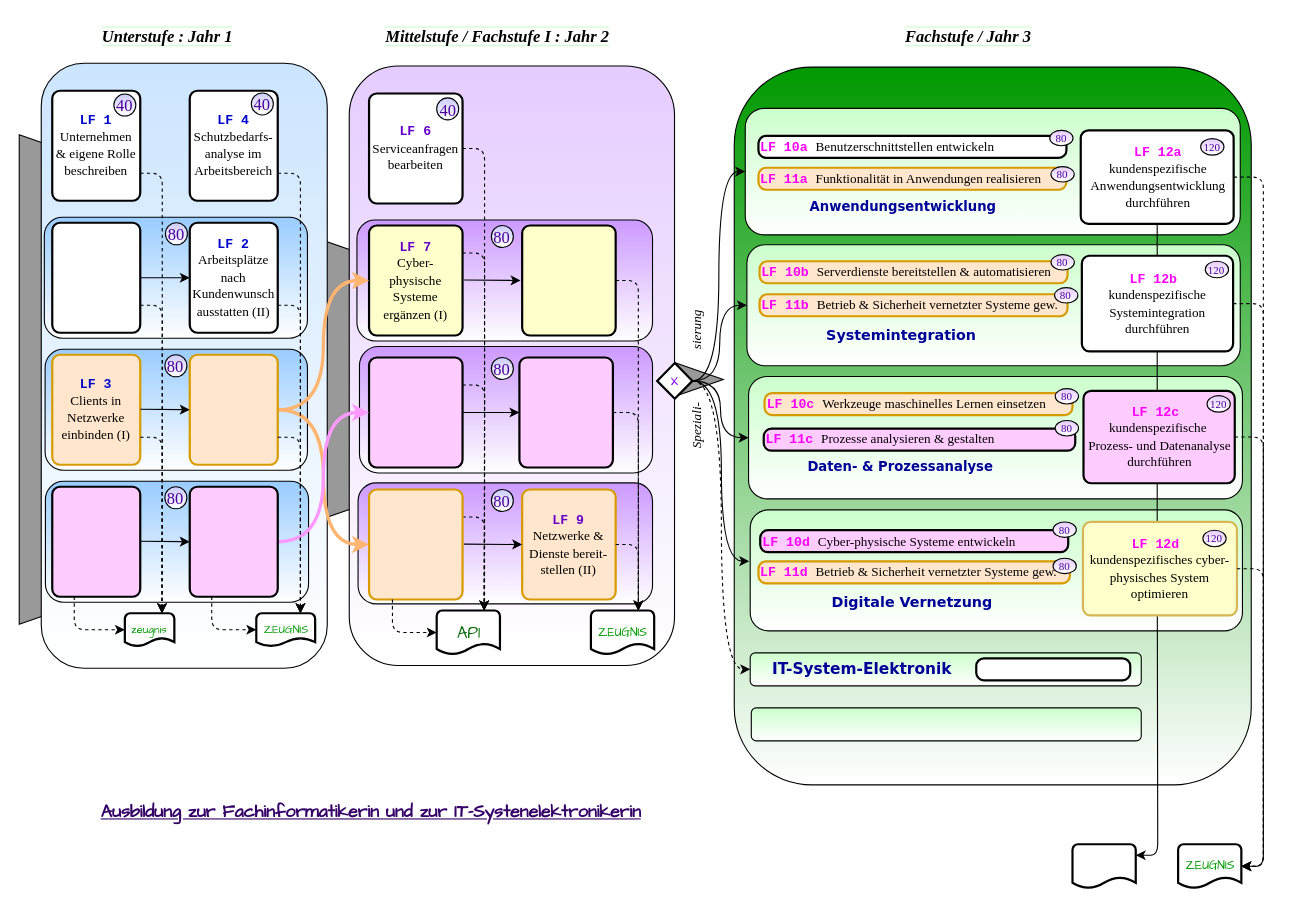
Some shapes in this 1291 by 908 pixel diagram are drawn without their labels. Here are the shapes that lost their labels. From the top down, the centre of each, then its label:
At [96,277]: "LF 2 Arbeitsplätze nach Kundenwunsch ausstatten (I)".
At [568,280]: "LF 7 Cyber- physische Systeme ergänzen (II)".
At [233,409]: "LF 3 Clients in Netzwerke einbinden (III)".
At [415,412]: "LF 8 Daten system- übergreifend bereitstellen (I)".
At [565,412]: "LF 8 Daten system- übergreifend bereitstellen (II)".
At [96,541]: "LF 5 Software zur Verwaltung von Daten anpassen (I)".
At [233,541]: "LF 5 Software zur Verwaltung von Daten anpassen (II)".
At [415,544]: "LF 9 Netzwerke & Dienste bereitstellen (I)".
At [1053,669]: "LF 10SE - LF 12SE".
At [945,724]: "IT-Kaufmann".
At [1103,866]: "AP2".
